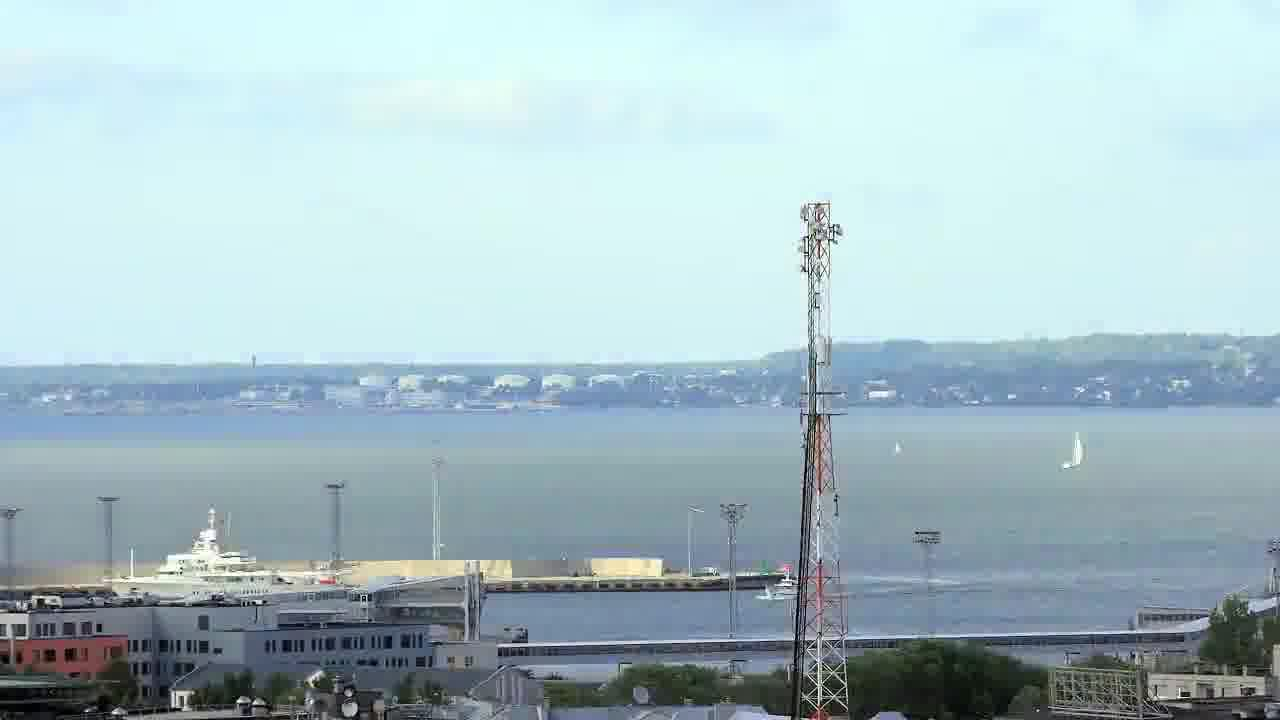type-1: (751, 557, 821, 602)
type-2: (1046, 408, 1096, 486)
type-3: (84, 515, 355, 603)
